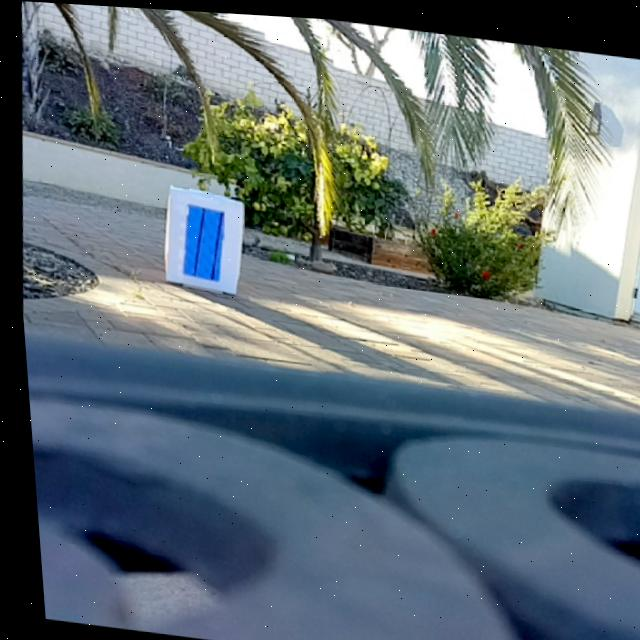led: (176, 203, 224, 279)
